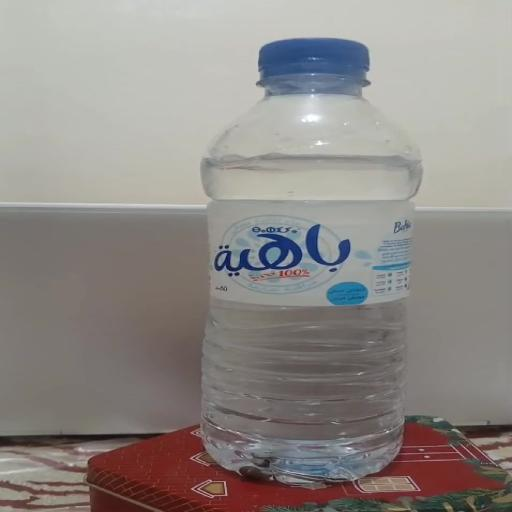bouteille conformite: (141, 26, 475, 500)
bouteille non conformite: (182, 42, 420, 90)
